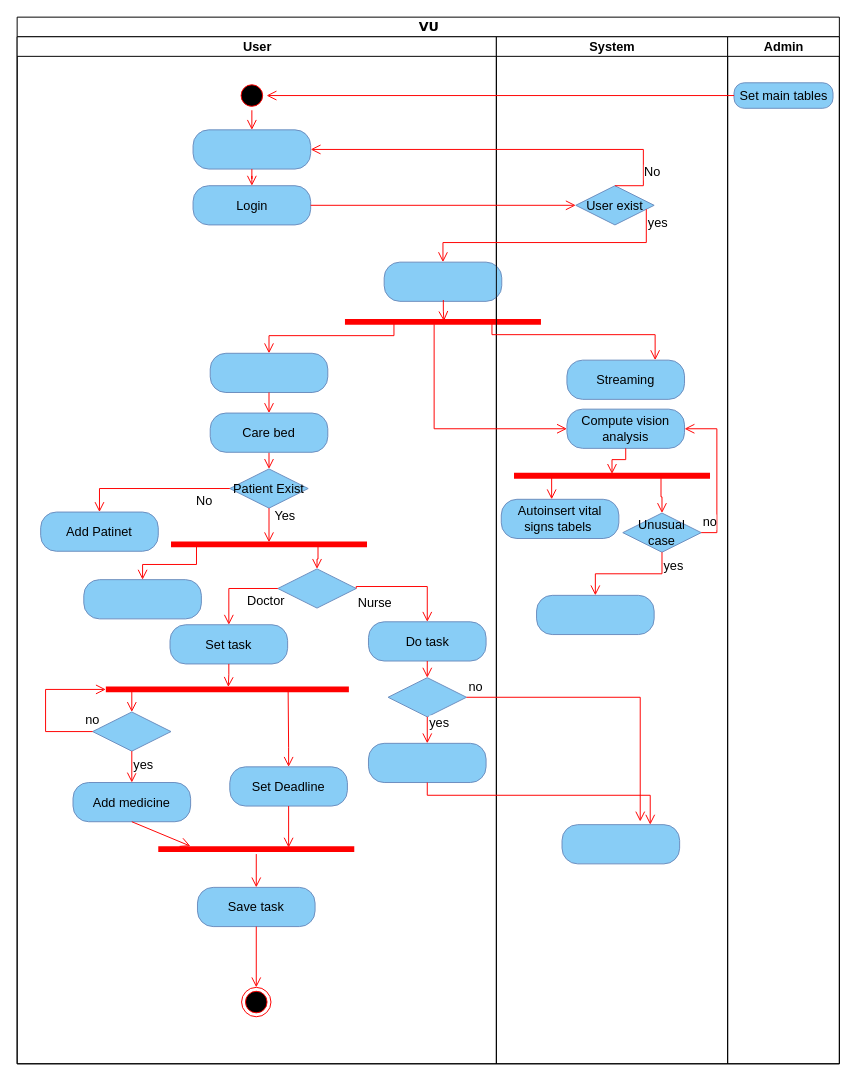
The diagram is 857 pixels wide and 1081 high, and some of its shapes have lost their labels. Each missing label, with the box of its shape:
Add image: (368, 742, 486, 783)
Autoset donedate: (561, 824, 680, 864)
Choose role: (192, 129, 311, 169)
Images needed: (387, 677, 466, 717)
Medicine needed: (92, 711, 171, 751)
Monitoring: (383, 261, 502, 301)
Role: (277, 568, 356, 608)
See own shift: (209, 352, 328, 392)
See records: (83, 579, 201, 619)
Send Alert: (536, 594, 654, 635)
